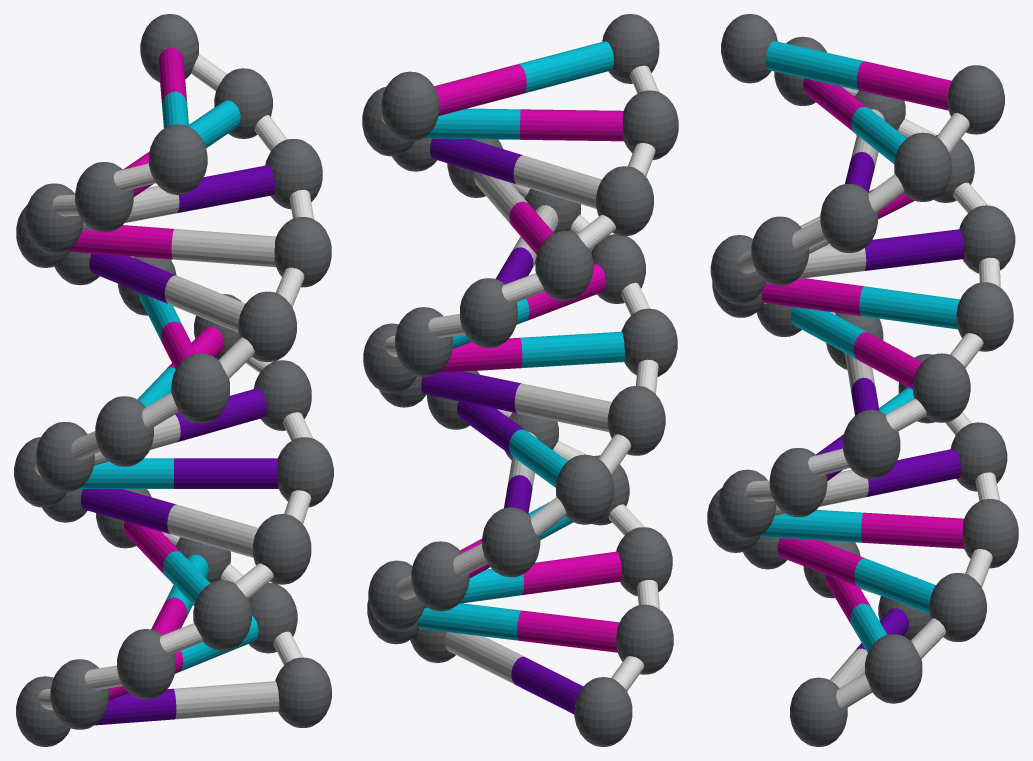
Rendered from DNAmutation3.glb.
3 views of the same model, side by side, from view 1: azimuth 30°, elevation 25°; view 2: azimuth 150°, elevation 25°; view 3: azimuth 270°, elevation 25° (orthographic).
Parts seen in each view (by area): view 1: Mesh_Mesh_head_geo.001_lambert2SG.001; view 2: Mesh_Mesh_head_geo.001_lambert2SG.001; view 3: Mesh_Mesh_head_geo.001_lambert2SG.001.
Part boxes in pixels (left/top/right/bottom): Mesh_Mesh_head_geo.001_lambert2SG.001: left=14, top=14, right=333, bottom=746; Mesh_Mesh_head_geo.001_lambert2SG.001: left=362, top=14, right=678, bottom=746; Mesh_Mesh_head_geo.001_lambert2SG.001: left=707, top=14, right=1018, bottom=746.
Bounding box in the file's own units: 75.48 × 173 × 74.96.
